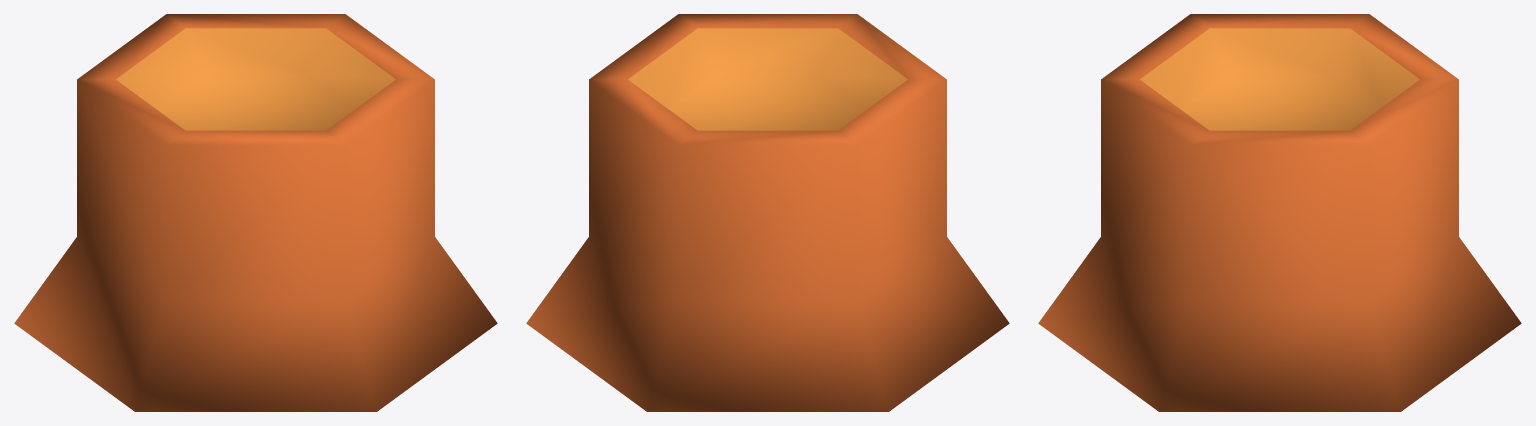
File: stump.obj
3 renders of one model, left to right at view 1: azimuth 30°, elevation 25°; view 2: azimuth 150°, elevation 25°; view 3: azimuth 270°, elevation 25°, orthographic.
Visible parts, largest first — view 1: stump_round; view 2: stump_round; view 3: stump_round.
Part boxes in pixels (box(x1,y1,x2,y2)): stump_round: box(14, 14, 497, 411); stump_round: box(526, 14, 1009, 411); stump_round: box(1038, 14, 1521, 411).
Size of the model in its own units: 0.1024 by 0.0658 by 0.1182.
